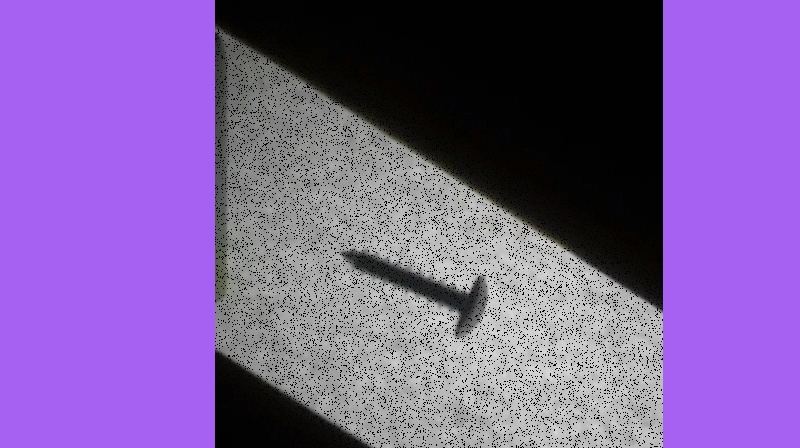S003: (339, 246, 489, 341)
